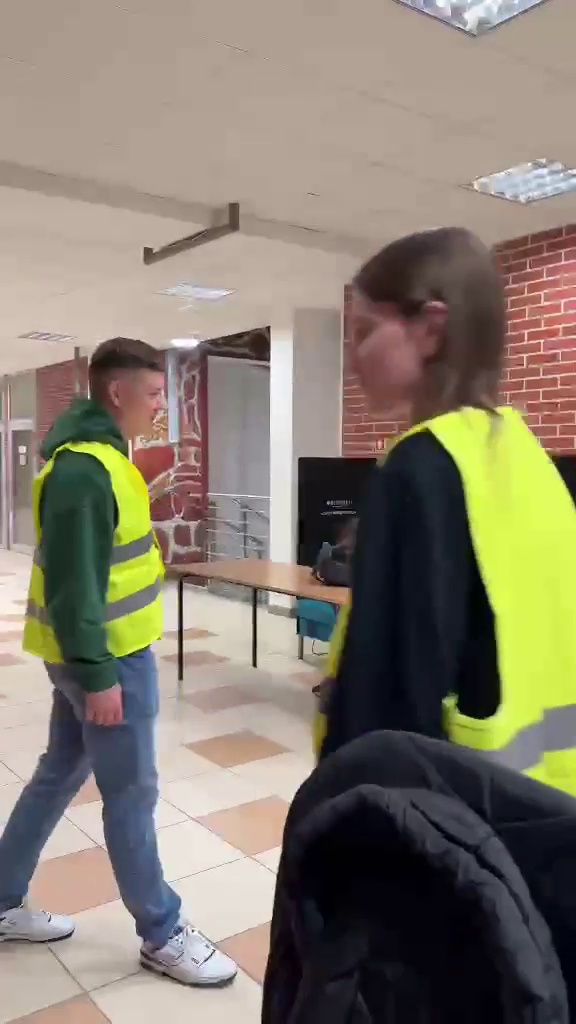vest: (13, 338, 239, 992), (327, 218, 575, 780)
